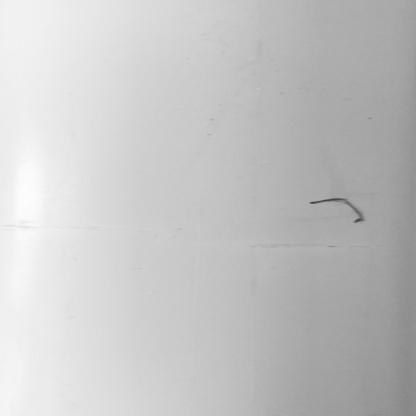fengxi: (299, 190, 378, 225)
